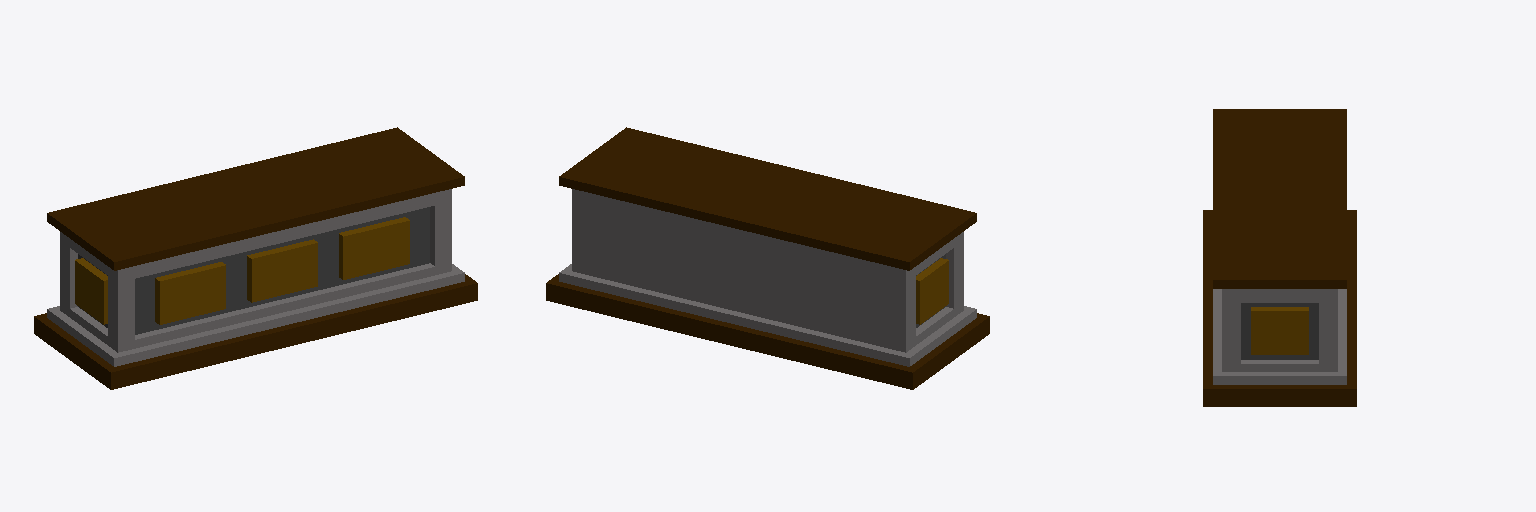
3 views of the same model, side by side, from view 1: azimuth 30°, elevation 25°; view 2: azimuth 150°, elevation 25°; view 3: azimuth 270°, elevation 25° (orthographic).
Parts seen in each view (by area): view 1: object 1; view 2: object 1; view 3: object 1.
Part boxes in pixels (left/top/right/bottom): object 1: left=34, top=127, right=477, bottom=389; object 1: left=546, top=127, right=989, bottom=389; object 1: left=1203, top=109, right=1356, bottom=406.
Bounding box in the file's own units: 4.4 × 1.4 × 1.6.
1 materials, 1 textured.